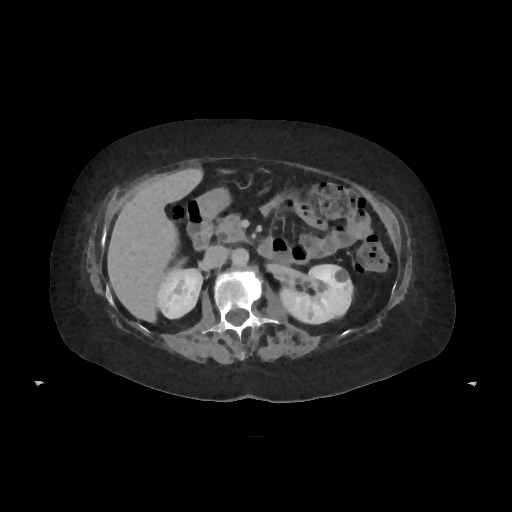Lesion: (334, 266, 351, 287)
